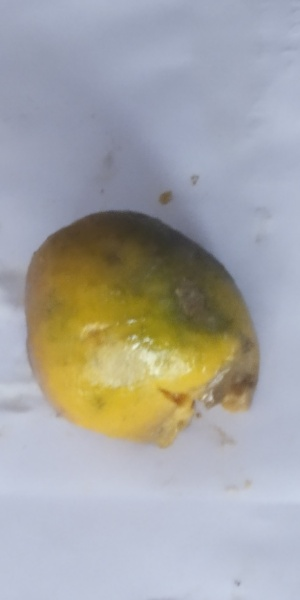BAD: (20, 211, 267, 465)
